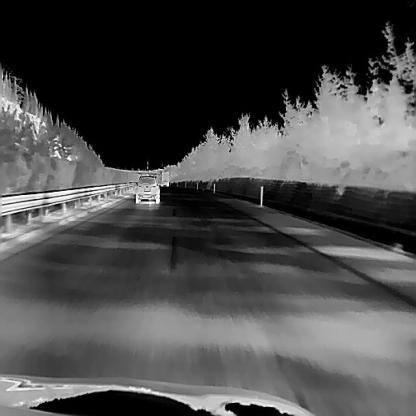car: (135, 173, 159, 204), (155, 170, 169, 186)
